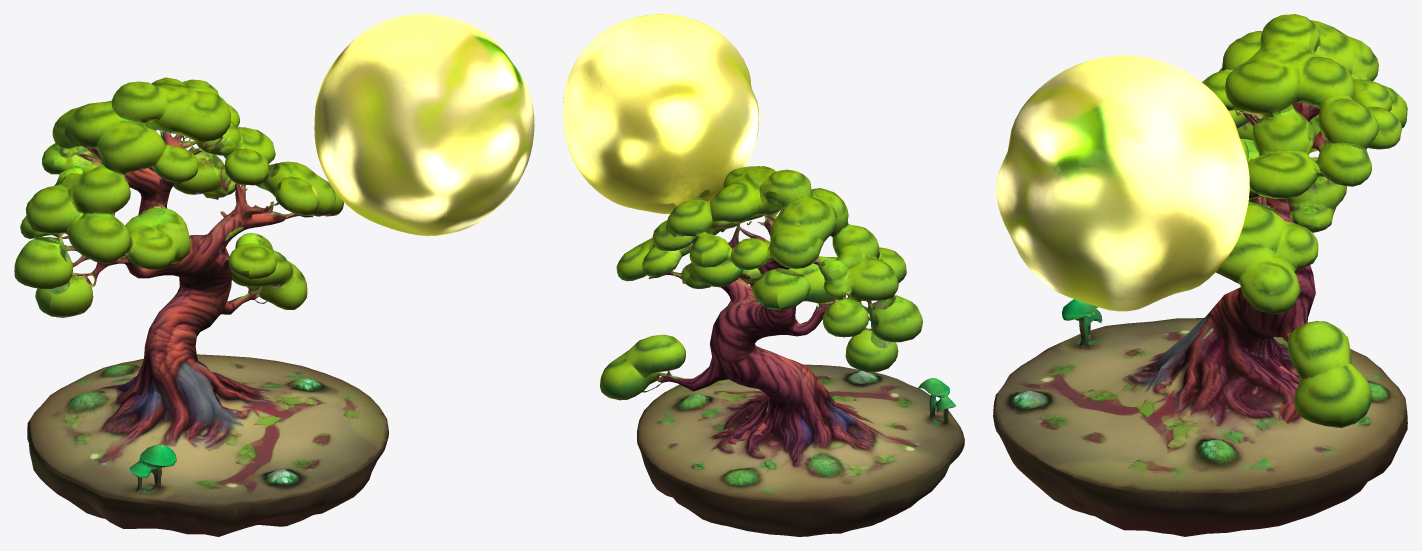
File: Tricky_tree.glb
The picture shows the model from 3 angles, left to right: view 1: azimuth 30°, elevation 25°; view 2: azimuth 150°, elevation 25°; view 3: azimuth 270°, elevation 25°; orthographic projection. The views are drawn at different scales.
Visible parts, largest first — view 1: Mesh0; view 2: Mesh0; view 3: Mesh0.
Part boxes in pixels (left/top/right/bottom): Mesh0: left=14, top=14, right=534, bottom=536; Mesh0: left=563, top=14, right=964, bottom=536; Mesh0: left=993, top=14, right=1407, bottom=536.
Size of the model in its own units: 1.91 by 1.87 by 1.35.
1 material, 1 textured.
